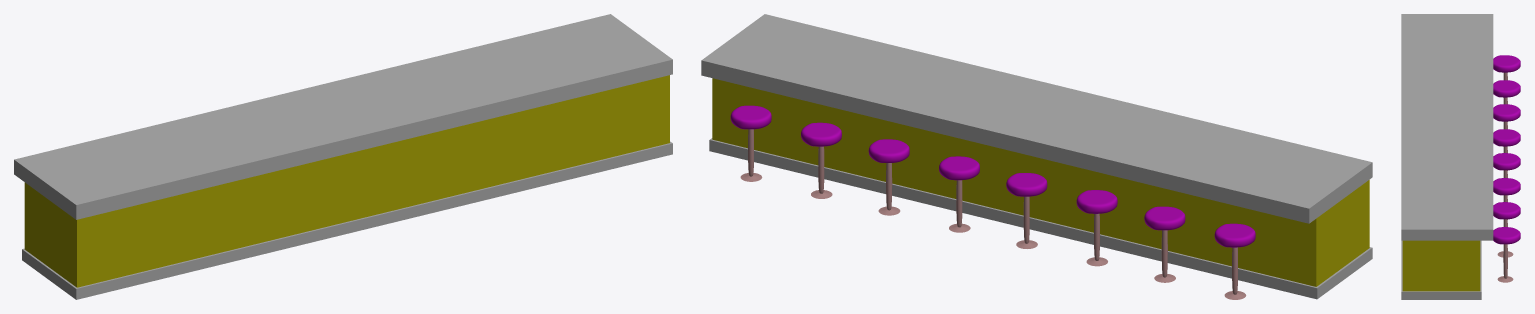
The model's file is Bar.fbx.
The picture shows the model from 3 angles, left to right: view 1: azimuth 30°, elevation 25°; view 2: azimuth 150°, elevation 25°; view 3: azimuth 270°, elevation 25°; orthographic projection. The views are drawn at different scales.
Visible parts, largest first — view 1: pasted__pCube5; view 2: pasted__pCube5, pDisc1 (×8); view 3: pasted__pCube5, pDisc1 (×8), pCylinder1.
Part boxes in pixels (box(x1,y1,x2,y2)): pasted__pCube5: box(14, 14, 672, 299); pasted__pCube5: box(701, 14, 1372, 299); pDisc1 (×8): box(730, 105, 1255, 247); pasted__pCube5: box(1401, 14, 1493, 299); pDisc1 (×8): box(1493, 55, 1520, 244); pCylinder1: box(1503, 244, 1507, 278).
Bounding box in the file's own units: 6.58 × 1 × 1.54.
